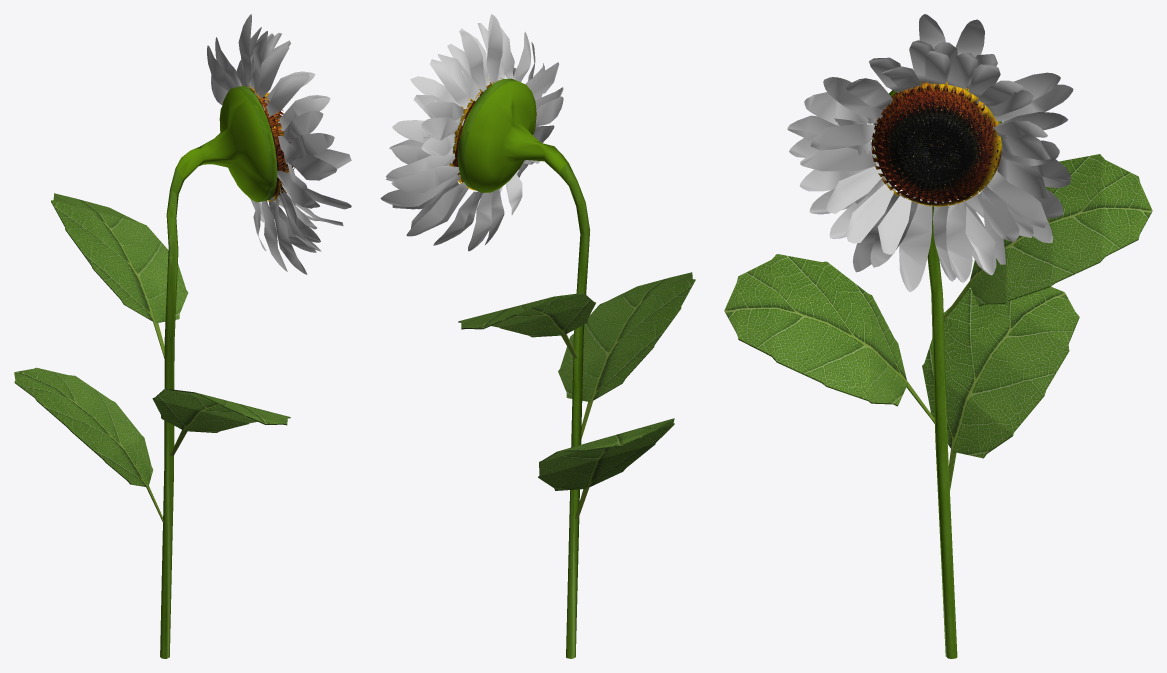
The model's file is Sunflower_Foreground_0418.fbx.
3 renders of one model, left to right at view 1: azimuth 30°, elevation 25°; view 2: azimuth 150°, elevation 25°; view 3: azimuth 270°, elevation 25°, orthographic. The views are drawn at different scales.
Parts seen in each view (by area): view 1: pasted__Stalk, pasted__Leaf1, pasted__Leaf2, pasted__Leaf3, pasted__Bud, pasted__Plane745, pasted__Plane765, pasted__Plane1013, pasted__Plane746, pasted__Plane733, pasted__Plane729, pasted__Plane734 (+4 smaller); view 2: pasted__Stalk, pasted__Leaf3, pasted__Leaf2, pasted__Leaf1, pasted__Plane722, pasted__Plane724, pasted__Plane723, pasted__Plane716, pasted__Plane726, pasted__Plane717, pasted__Plane749, pasted__Plane721 (+13 smaller); view 3: pasted__Leaf3, pasted__Leaf2, pasted__Leaf1, pasted__Bud, pasted__Stalk, pasted__Plane727, pasted__Plane738, pasted__Plane756, pasted__Plane762, pasted__Plane748, pasted__Plane761, pasted__Plane763 (+24 smaller).
Part boxes in pixels (<box>): pasted__Stalk: <box>160,86,277,658</box>; pasted__Leaf1: <box>51,193,188,358</box>; pasted__Leaf2: <box>14,367,163,523</box>; pasted__Leaf3: <box>152,388,290,456</box>; pasted__Bud: <box>243,85,294,201</box>; pasted__Plane745: <box>266,73,309,116</box>; pasted__Plane765: <box>278,95,330,130</box>; pasted__Plane1013: <box>289,153,336,180</box>; pasted__Plane746: <box>255,44,289,98</box>; pasted__Plane733: <box>290,133,334,158</box>; pasted__Plane729: <box>273,199,307,274</box>; pasted__Plane734: <box>283,110,323,142</box>; pasted__Stalk: <box>457,78,590,658</box>; pasted__Leaf3: <box>558,272,695,438</box>; pasted__Leaf2: <box>538,418,674,519</box>; pasted__Leaf1: <box>458,292,595,358</box>; pasted__Plane722: <box>391,166,459,192</box>; pasted__Plane724: <box>406,182,466,236</box>; pasted__Plane723: <box>380,174,460,206</box>; pasted__Plane716: <box>486,14,502,84</box>; pasted__Plane726: <box>468,192,492,251</box>; pasted__Plane717: <box>461,31,486,91</box>; pasted__Plane749: <box>437,54,481,101</box>; pasted__Plane721: <box>386,153,455,181</box>; pasted__Leaf3: <box>724,254,935,424</box>; pasted__Leaf2: <box>922,287,1079,489</box>; pasted__Leaf1: <box>943,154,1152,321</box>; pasted__Bud: <box>871,81,1001,206</box>; pasted__Stalk: <box>873,83,1002,658</box>; pasted__Plane727: <box>899,199,932,292</box>; pasted__Plane738: <box>946,201,972,282</box>; pasted__Plane756: <box>988,169,1047,227</box>; pasted__Plane762: <box>800,147,875,171</box>; pasted__Plane748: <box>846,184,893,243</box>; pasted__Plane761: <box>826,165,882,213</box>; pasted__Plane763: <box>810,124,876,150</box>.
Bounding box in the file's own units: 13.19 × 29.64 × 16.6.
